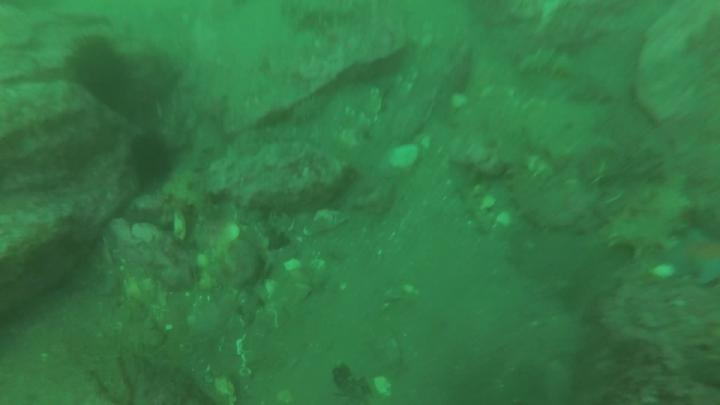echinus: (65, 36, 132, 104), (124, 130, 176, 191)
holothurian: (608, 184, 693, 253), (507, 171, 578, 231), (163, 173, 222, 229), (517, 46, 588, 83)
starfish: (679, 240, 720, 288)
